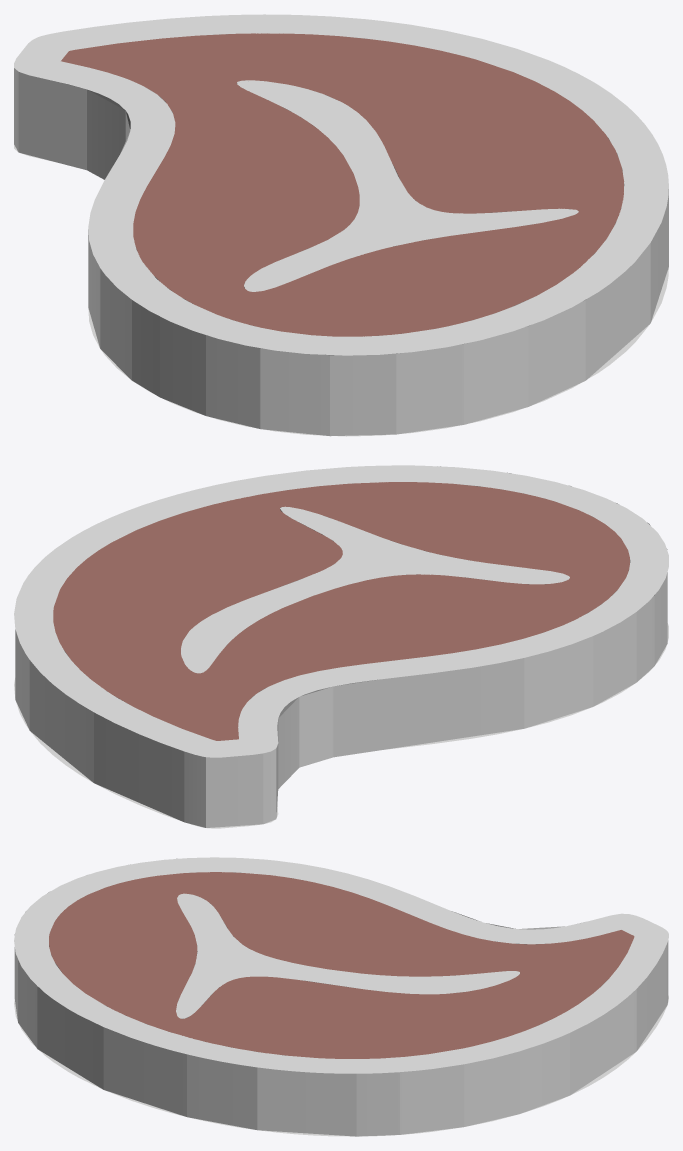
File: bife.fbx
3 views of the same model, one above another, from view 1: azimuth 30°, elevation 25°; view 2: azimuth 150°, elevation 25°; view 3: azimuth 270°, elevation 25° (orthographic). The views are drawn at different scales.
Visible parts, largest first — view 1: polySurface30; view 2: polySurface30; view 3: polySurface30.
Boxes of the visible parts, box(x1,y1,x2,y2) form: polySurface30: box(14, 14, 668, 436); polySurface30: box(14, 465, 668, 828); polySurface30: box(14, 857, 668, 1136).
Bounding box in the file's own units: 9.74 × 1.32 × 12.46.
